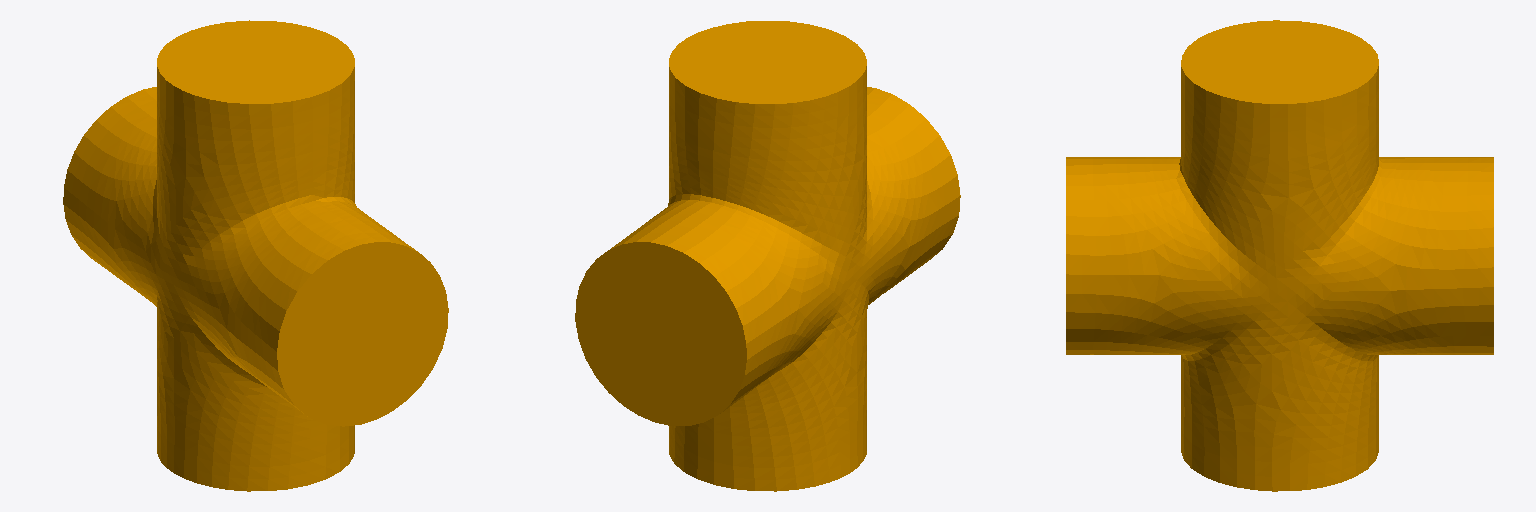
The robot description file, URDF, robot "object":
<robot name="object">
  <link name="object">
    <visual>
      <origin xyz="0 0 0"/>
      <geometry>
        <mesh filename="visual.obj" scale="1 1 1"/>
      </geometry>
    </visual>
    <collision>
      <origin xyz="0 0 0"/>
      <geometry>
        <mesh filename="visual.obj" scale="1 1 1"/>
      </geometry>
    </collision>
    <inertial>
      <mass value="0.05"/>
      <inertia ixx="5.2179489492529995e-05" iyy="3.257264018642631e-05" izz="3.256055243209341e-05" ixy="3.0559428710329855e-09" ixz="9.429866855255255e-10" iyz="1.1887695993834377e-09"/>
    </inertial>
  </link>
</robot>

--- What the picture shows (computed from the rendered views, not written in the file) ---
Views: 3 orthographic renders of the robot side by side, from view 1: azimuth 30°, elevation 25°; view 2: azimuth 150°, elevation 25°; view 3: azimuth 270°, elevation 25°.
Model object with 1 links and 0 joints (none), rooted at object, posed every joint at zero.
Visible links, largest first — view 1: object; view 2: object; view 3: object.
Link boxes in pixels (x1=…): object: x1=63, y1=20, x2=448, y2=491; object: x1=575, y1=21, x2=960, y2=491; object: x1=1066, y1=20, x2=1493, y2=491.
Bounding box of the posed robot: 0.0446 × 0.096 × 0.096 m (x, y, z).
Meshes: 1 distinct files referenced, 1 mesh visuals loaded (1 OBJ).
